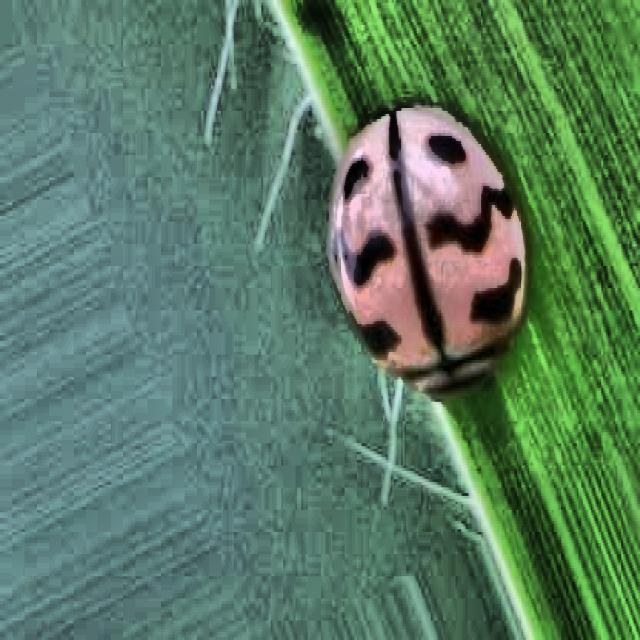Asian-Lady-beetle: (268, 111, 614, 466)
